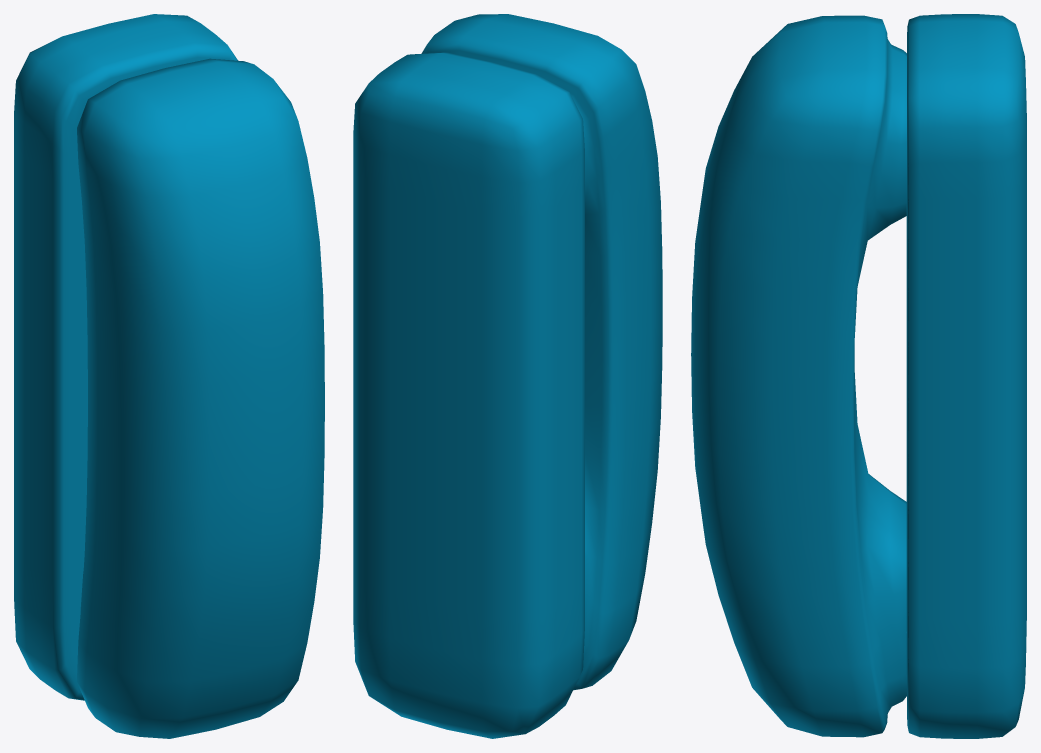
The model's file is TEL.1845eb6f.glb.
3 renders of one model, left to right at view 1: azimuth 30°, elevation 25°; view 2: azimuth 150°, elevation 25°; view 3: azimuth 270°, elevation 25°, orthographic. The views are drawn at different scales.
Visible parts, largest first — view 1: Phone,_colorize_; view 2: Phone,_colorize_; view 3: Phone,_colorize_.
Boxes of the visible parts, x1,y1,x2,y2 form: Phone,_colorize_: (14,14,324,738); Phone,_colorize_: (353,14,662,738); Phone,_colorize_: (691,14,1026,738).
Bounding box in the file's own units: 0.0635 × 0.2032 × 0.0921.
